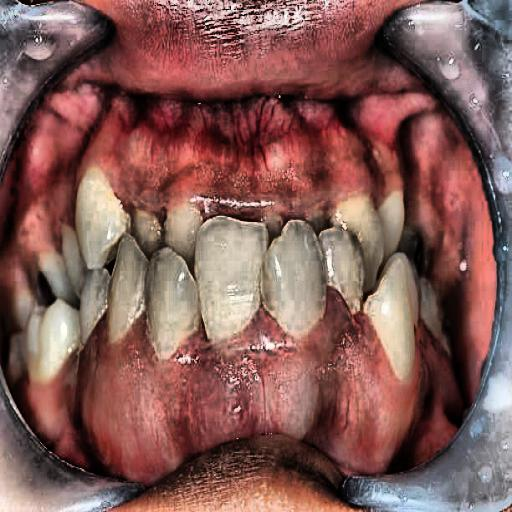Gingivitis: (36, 311, 465, 470), (28, 114, 452, 213)
